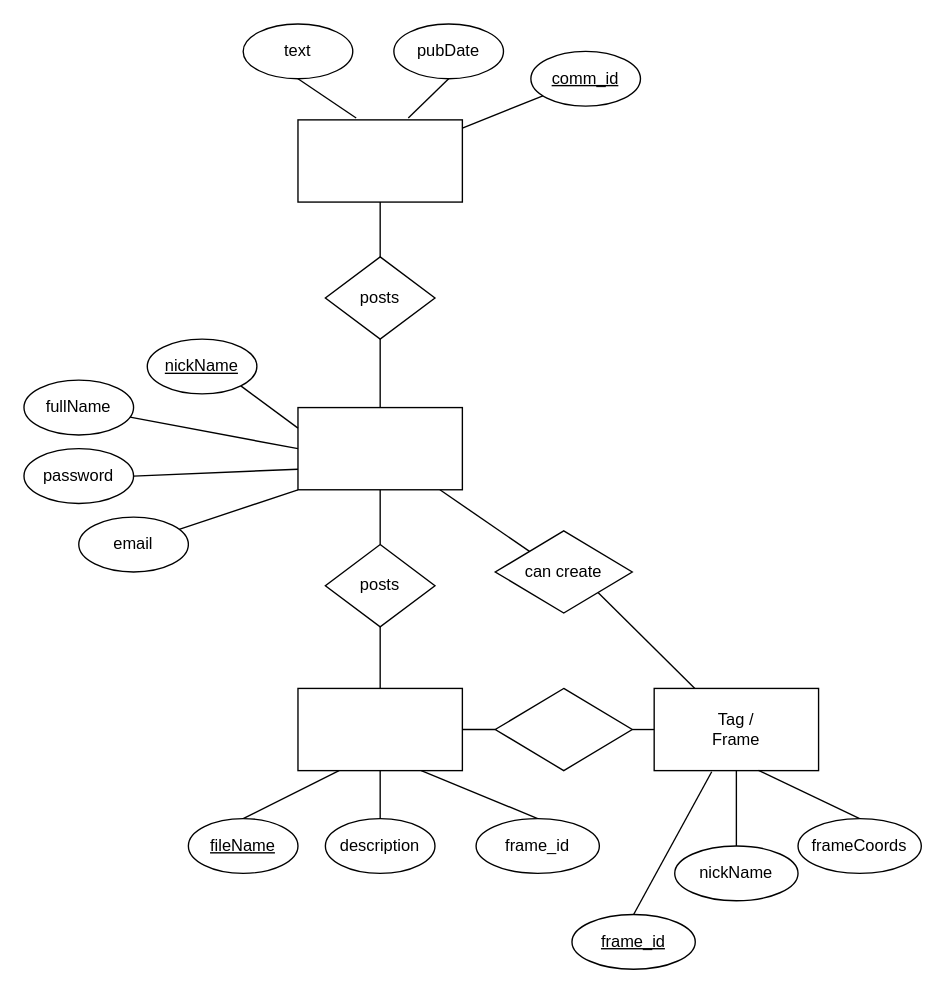
Image size: 945x993. Some labels were removed from this diagram. Each missing label, with the centre of its shape:
"Comment" goes at [379,160].
"is put in" goes at [563,729].
"Photo" goes at [379,729].
"User" goes at [379,448].
